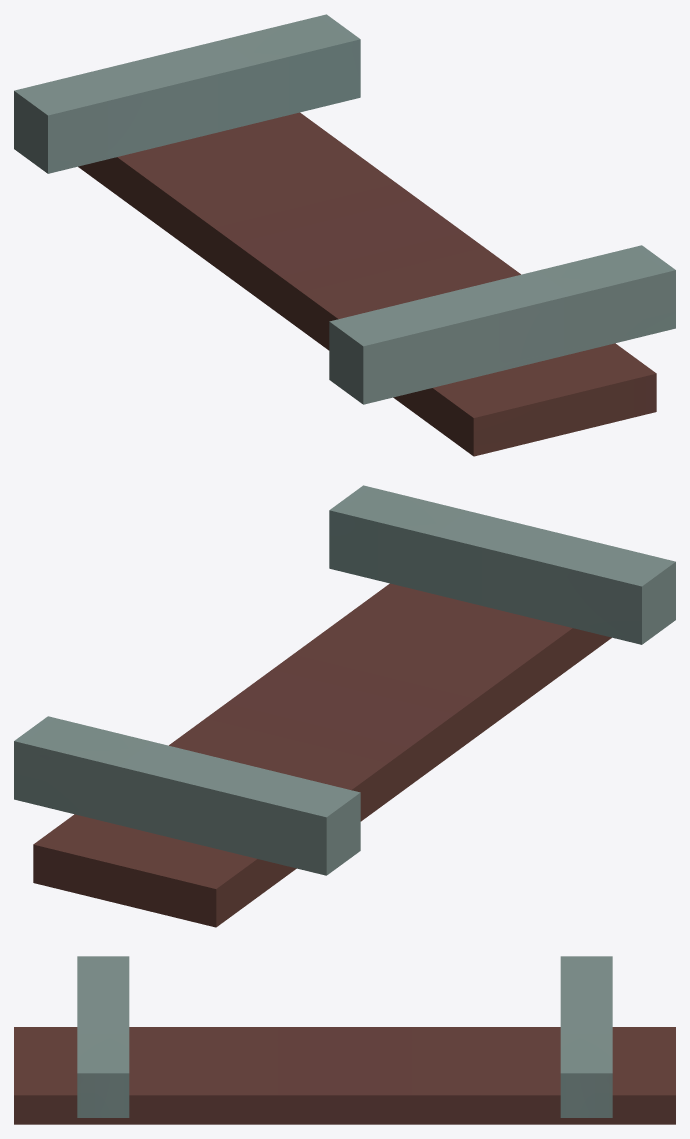
File: rail.fbx
3 views of the same model, one above another, from view 1: azimuth 30°, elevation 25°; view 2: azimuth 150°, elevation 25°; view 3: azimuth 270°, elevation 25° (orthographic). The views are drawn at different scales.
Visible parts, largest first — view 1: Cube.004; view 2: Cube.004; view 3: Cube.004.
Boxes of the visible parts, x1=… form: Cube.004: x1=14, y1=14, x2=675, y2=456; Cube.004: x1=14, y1=485, x2=675, y2=927; Cube.004: x1=14, y1=956, x2=675, y2=1124.
Size of the model in its own units: 91.5 by 27.08 by 219.
